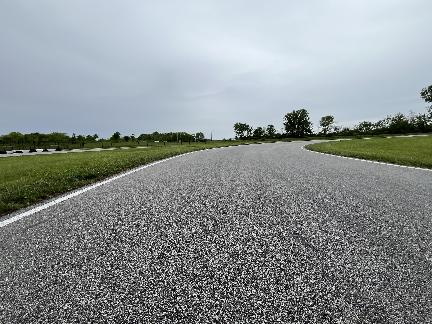Grass: (0, 144, 229, 214), (306, 136, 431, 167)
Lane: (0, 143, 431, 323)
